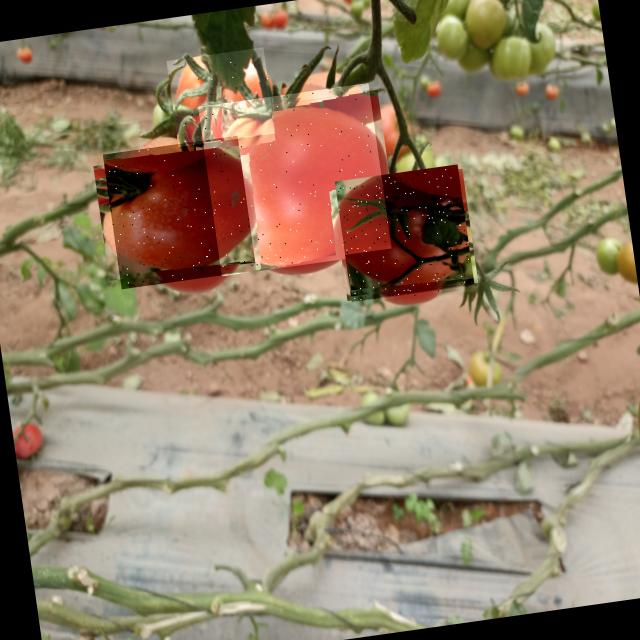Ripe Tomato: (198, 83, 392, 276), (102, 136, 256, 290), (335, 165, 475, 305), (167, 47, 276, 147)
